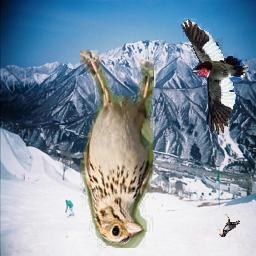Crow: (218, 215, 241, 238)
Sparrow: (80, 50, 154, 248)
Woodpecker: (181, 19, 249, 136)
